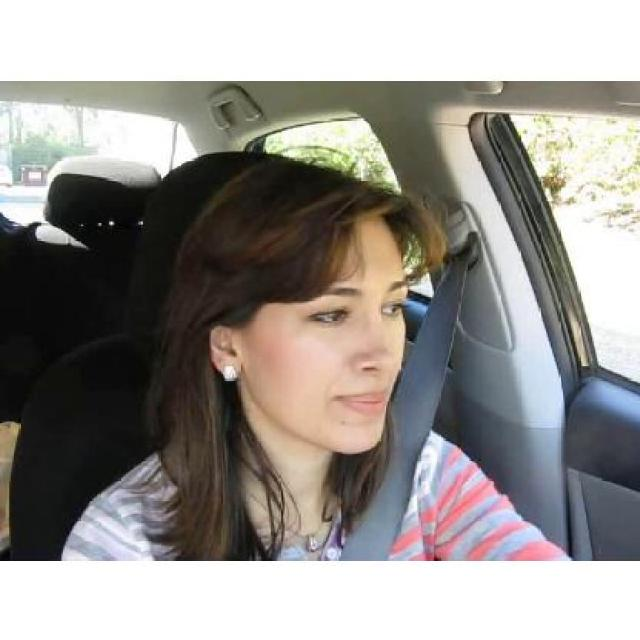attentif: (208, 158, 407, 454)
